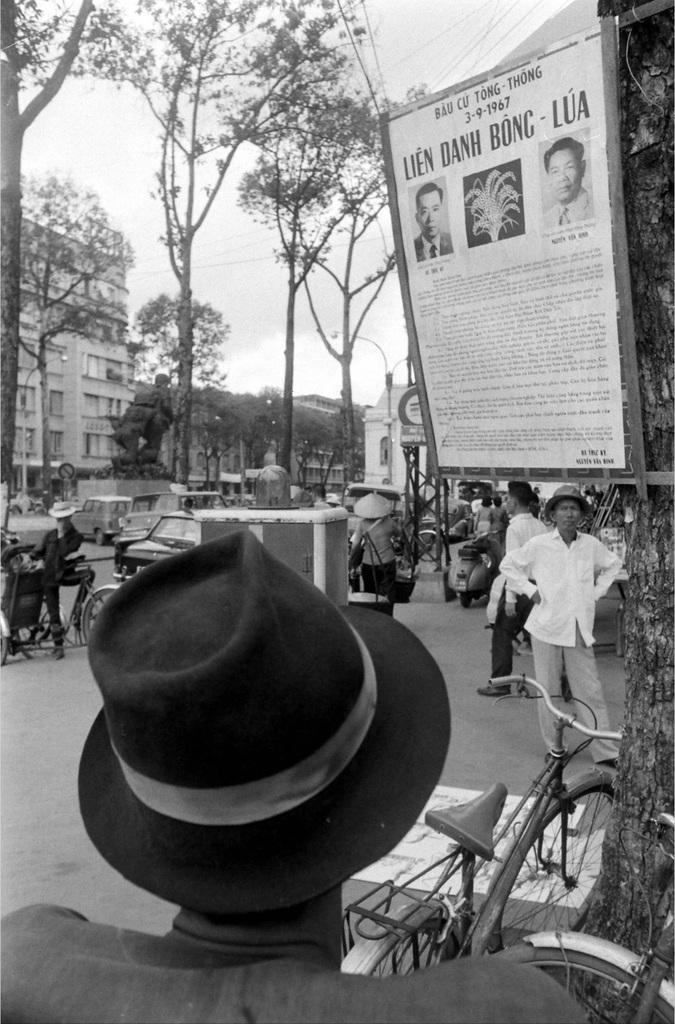Hat: (74, 529, 455, 916), (542, 478, 590, 525), (353, 493, 397, 517), (44, 503, 70, 515)
